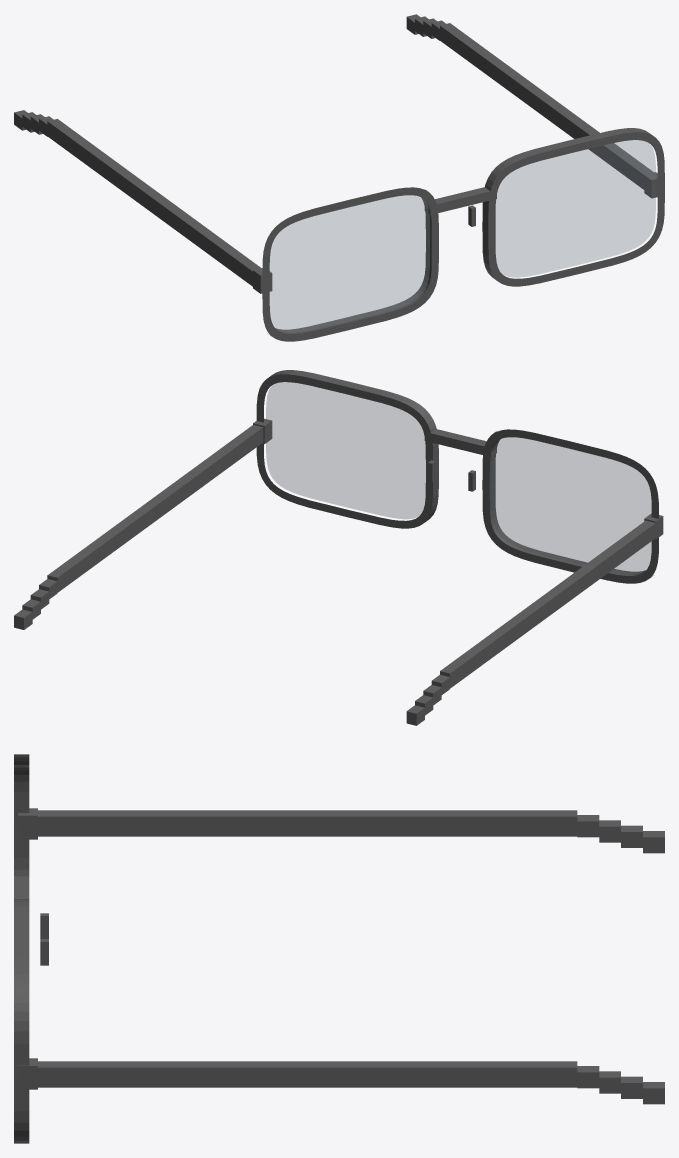
The model's file is p-rect-l.glb.
3 renders of one model, top to bottom at view 1: azimuth 30°, elevation 25°; view 2: azimuth 150°, elevation 25°; view 3: azimuth 270°, elevation 25°, orthographic. The views are drawn at different scales.
Parts seen in each view (by area): view 1: Lens, Frame; view 2: Lens, Frame; view 3: Frame.
Part boxes in pixels (bbox=[...]): Lens: bbox=[270, 140, 655, 332]; Frame: bbox=[14, 14, 664, 341]; Lens: bbox=[266, 382, 651, 573]; Frame: bbox=[14, 370, 663, 725]; Frame: bbox=[14, 754, 664, 1143].
Size of the model in its own units: 139 by 43 by 148.
